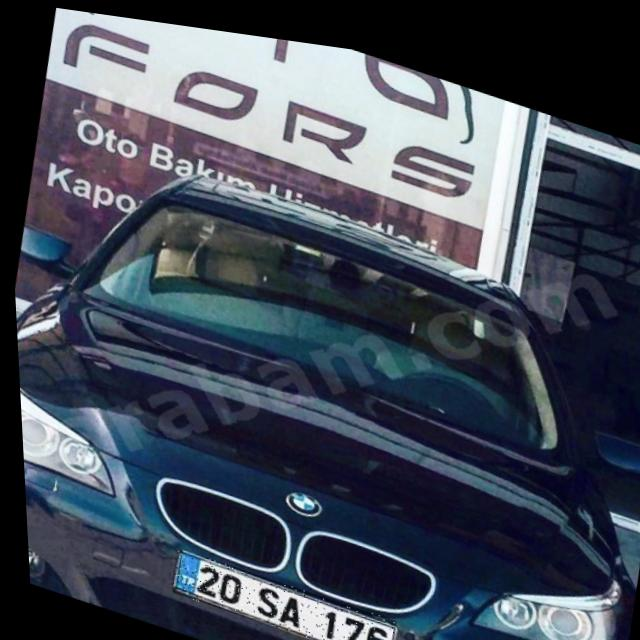license_plate: (164, 544, 393, 640)
